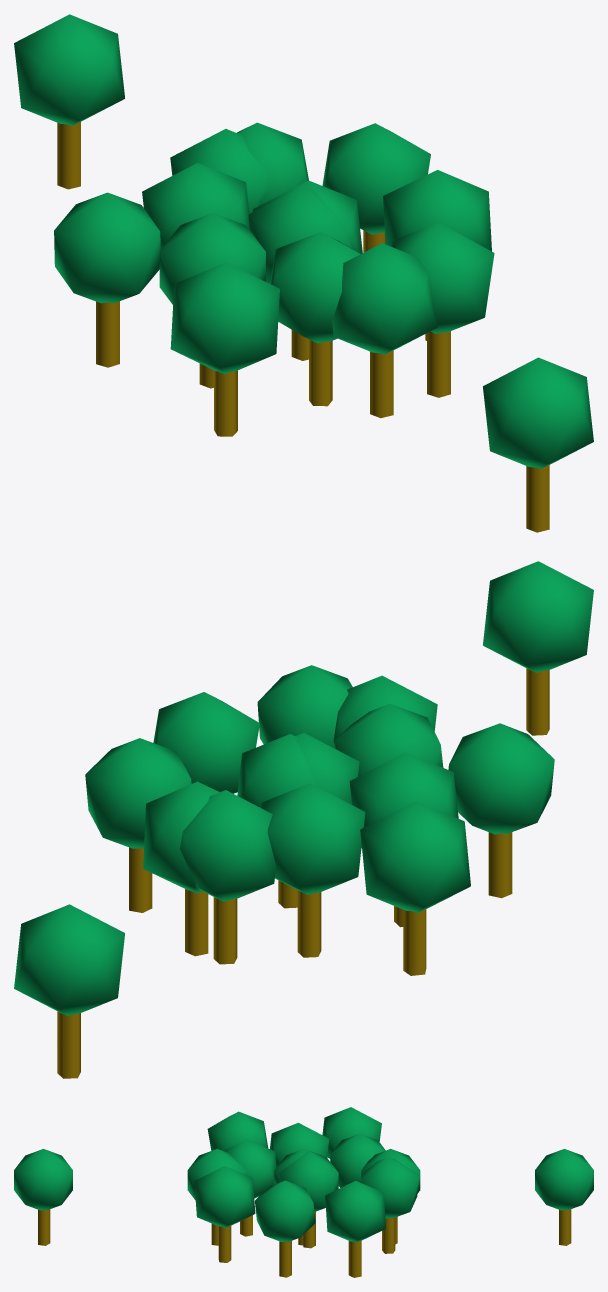
Rendered from trees.glb.
3 views of the same model, one above another, from view 1: azimuth 30°, elevation 25°; view 2: azimuth 150°, elevation 25°; view 3: azimuth 270°, elevation 25° (orthographic). The views are drawn at different scales.
Visible parts, largest first — view 1: Trees, Trees_line, SingleTree; view 2: Trees, Trees_line, SingleTree; view 3: Trees, Trees_line, SingleTree.
Boxes of the visible parts, x1=… form: Trees: x1=54, y1=122, x2=494, y2=436; Trees_line: x1=14, y1=14, x2=593, y2=532; SingleTree: x1=248, y1=186, x2=353, y2=360; Trees: x1=85, y1=665, x2=554, y2=975; Trees_line: x1=14, y1=561, x2=593, y2=1078; SingleTree: x1=295, y1=733, x2=359, y2=804; Trees: x1=194, y1=1107, x2=419, y2=1277; Trees_line: x1=14, y1=1149, x2=593, y2=1245; SingleTree: x1=274, y1=1149, x2=321, y2=1245.
Bounding box in the file's own units: 6.78 × 3 × 16.7.
